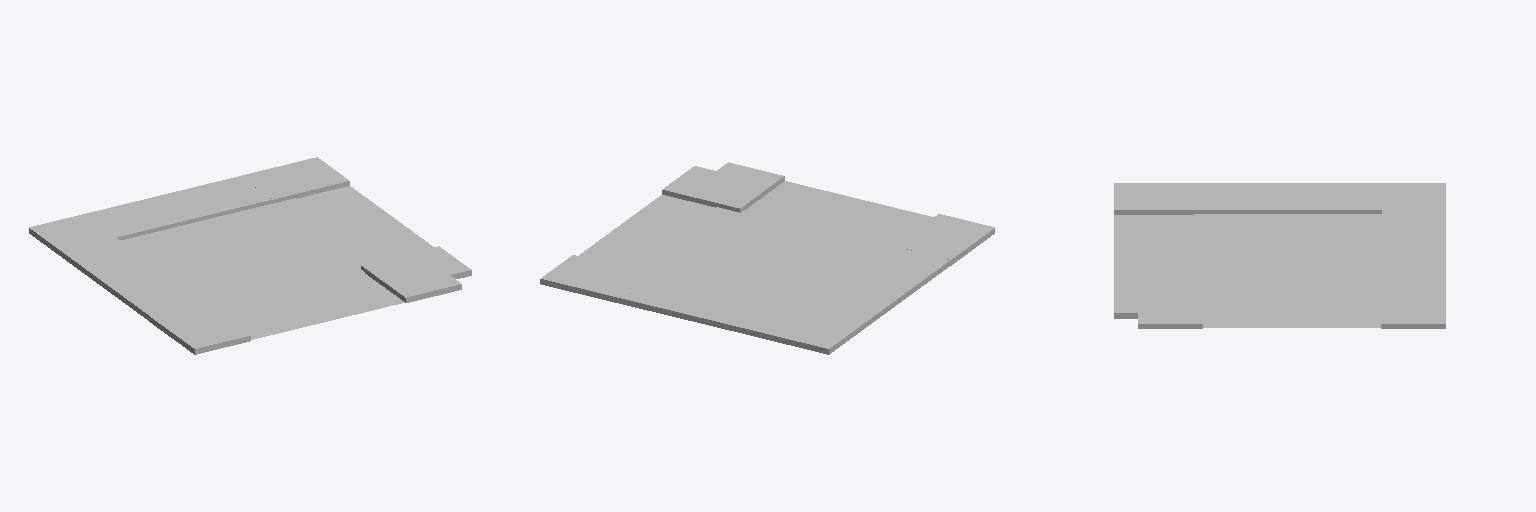
File: Road-turn.obj
3 renders of one model, left to right at view 1: azimuth 30°, elevation 25°; view 2: azimuth 150°, elevation 25°; view 3: azimuth 270°, elevation 25°, orthographic.
Visible parts, largest first — view 1: Mesh.002_Mesh.003_Plane, Mesh.003_Mesh_Cube.001_Cube.002, Mesh.006_Mesh.001_Cube_Cube.001, Mesh.001_Mesh.005_Mesh.001_Mesh.005_Cube.001_Cube.007, Mesh.004_Mesh.004_Mesh.002_Mesh.002_Cube.001_Cube.004, Mesh_Mesh.006_Mesh_Mesh.006_Cube.001_Cube.008, Mesh.005_Mesh.002_Mesh.003_Mesh.000_Cube.001_Cube.002; view 2: Mesh.002_Mesh.003_Plane, Mesh.006_Mesh.001_Cube_Cube.001, Mesh.003_Mesh_Cube.001_Cube.002, Mesh.004_Mesh.004_Mesh.002_Mesh.002_Cube.001_Cube.004, Mesh.001_Mesh.005_Mesh.001_Mesh.005_Cube.001_Cube.007, Mesh_Mesh.006_Mesh_Mesh.006_Cube.001_Cube.008, Mesh.005_Mesh.002_Mesh.003_Mesh.000_Cube.001_Cube.002; view 3: Mesh.002_Mesh.003_Plane, Mesh.006_Mesh.001_Cube_Cube.001, Mesh.004_Mesh.004_Mesh.002_Mesh.002_Cube.001_Cube.004, Mesh.003_Mesh_Cube.001_Cube.002, Mesh.001_Mesh.005_Mesh.001_Mesh.005_Cube.001_Cube.007, Mesh.005_Mesh.002_Mesh.003_Mesh.000_Cube.001_Cube.002, Mesh_Mesh.006_Mesh_Mesh.006_Cube.001_Cube.008.
Boxes of the visible parts, x1,y1,x2,y2 form: Mesh.002_Mesh.003_Plane: [121, 198, 379, 308]; Mesh.003_Mesh_Cube.001_Cube.002: [49, 176, 271, 246]; Mesh.006_Mesh.001_Cube_Cube.001: [29, 214, 205, 321]; Mesh.001_Mesh.005_Mesh.001_Mesh.005_Cube.001_Cube.007: [173, 275, 461, 354]; Mesh.004_Mesh.004_Mesh.002_Mesh.002_Cube.001_Cube.004: [279, 157, 471, 278]; Mesh_Mesh.006_Mesh_Mesh.006_Cube.001_Cube.008: [150, 256, 396, 338]; Mesh.005_Mesh.002_Mesh.003_Mesh.000_Cube.001_Cube.002: [240, 167, 432, 288]; Mesh.002_Mesh.003_Plane: [633, 207, 894, 311]; Mesh.006_Mesh.001_Cube_Cube.001: [773, 247, 950, 354]; Mesh.003_Mesh_Cube.001_Cube.002: [618, 274, 841, 340]; Mesh.004_Mesh.004_Mesh.002_Mesh.002_Cube.001_Cube.004: [540, 166, 732, 293]; Mesh.001_Mesh.005_Mesh.001_Mesh.005_Cube.001_Cube.007: [717, 162, 994, 248]; Mesh_Mesh.006_Mesh_Mesh.006_Cube.001_Cube.008: [684, 192, 973, 265]; Mesh.005_Mesh.002_Mesh.003_Mesh.000_Cube.001_Cube.002: [579, 175, 771, 302]; Mesh.002_Mesh.003_Plane: [1194, 214, 1381, 300]; Mesh.006_Mesh.001_Cube_Cube.001: [1203, 183, 1445, 213]; Mesh.004_Mesh.004_Mesh.002_Mesh.002_Cube.001_Cube.004: [1138, 305, 1445, 328]; Mesh.003_Mesh_Cube.001_Cube.002: [1382, 192, 1445, 285]; Mesh.001_Mesh.005_Mesh.001_Mesh.005_Cube.001_Cube.007: [1114, 183, 1158, 318]; Mesh.005_Mesh.002_Mesh.003_Mesh.000_Cube.001_Cube.002: [1138, 286, 1445, 308]; Mesh_Mesh.006_Mesh_Mesh.006_Cube.001_Cube.008: [1158, 183, 1202, 285].
Bounding box in the file's own units: 14.89 × 0.284 × 14.84.